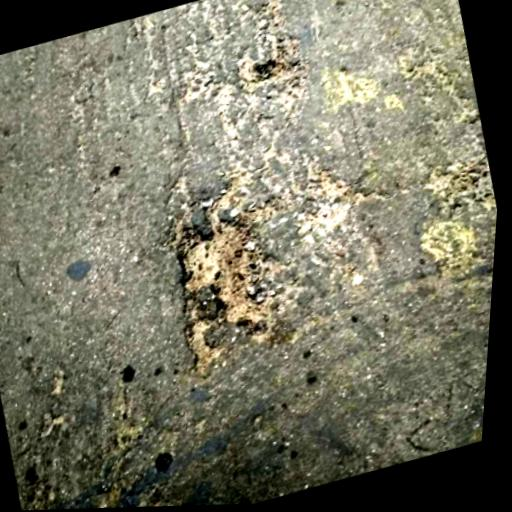pothole: (153, 203, 304, 368), (251, 52, 300, 87)
